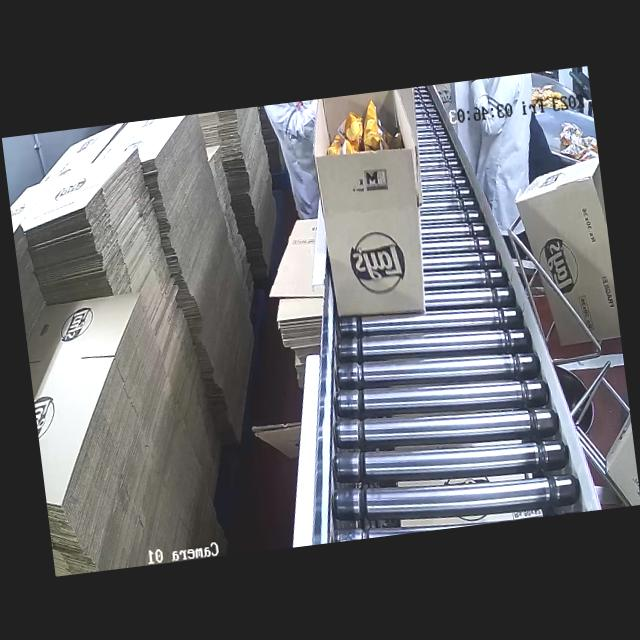cheese: (318, 91, 397, 161)
